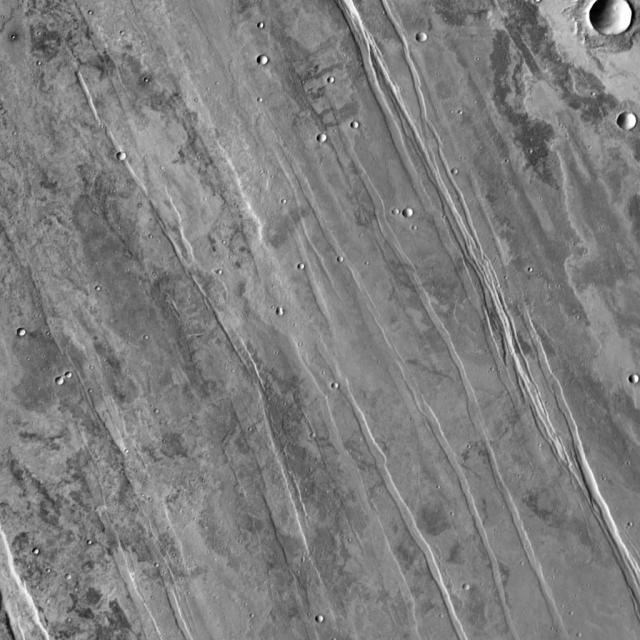crater: (153, 267, 233, 339), (595, 0, 637, 39), (622, 114, 640, 133), (409, 210, 419, 220), (422, 36, 432, 46), (263, 58, 273, 67), (322, 136, 332, 145), (123, 153, 131, 161), (356, 124, 364, 132), (60, 379, 68, 387), (22, 331, 30, 339), (629, 372, 635, 382), (325, 72, 333, 79), (314, 611, 322, 618), (330, 379, 338, 385), (273, 306, 281, 312)
